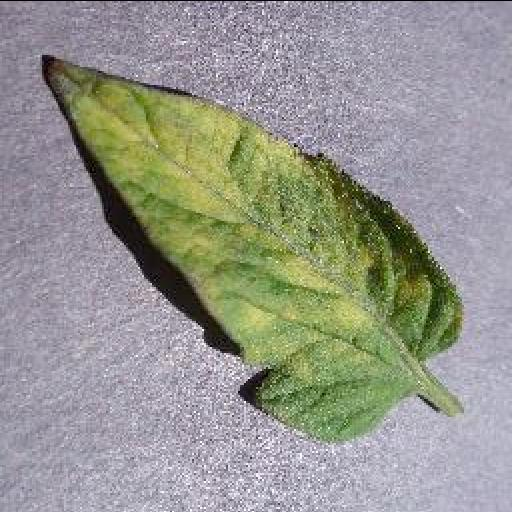disease_tomato: (42, 60, 460, 441)
